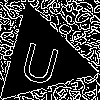U: (17, 33, 65, 87)
